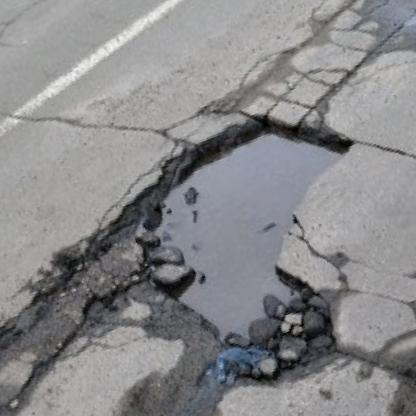pothole: (92, 88, 416, 416)
